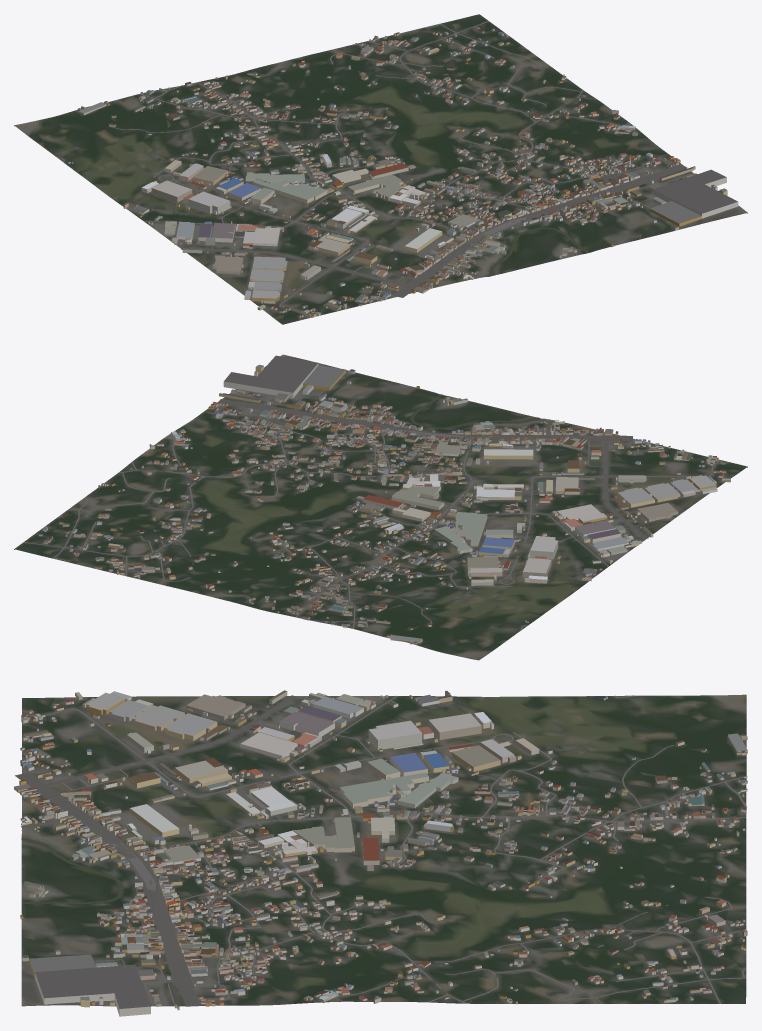
3 renders of one model, top to bottom at view 1: azimuth 30°, elevation 25°; view 2: azimuth 150°, elevation 25°; view 3: azimuth 270°, elevation 25°, orthographic. The views are drawn at different scales.
Visible parts, largest first — view 1: ground, buildings, roads; view 2: ground, buildings, roads; view 3: ground, buildings, roads, water.
Boxes of the visible parts, x1,y1,x2,y2 form: ground: [14, 14, 747, 324]; buildings: [67, 26, 738, 317]; roads: [55, 21, 687, 317]; ground: [14, 354, 747, 660]; buildings: [39, 355, 730, 644]; roads: [23, 391, 719, 630]; ground: [21, 694, 746, 1006]; buildings: [14, 690, 747, 1016]; roads: [15, 695, 746, 1006]; water: [21, 741, 163, 904].
Bounding box in the file's own units: 1458 × 33.9 × 1420.
